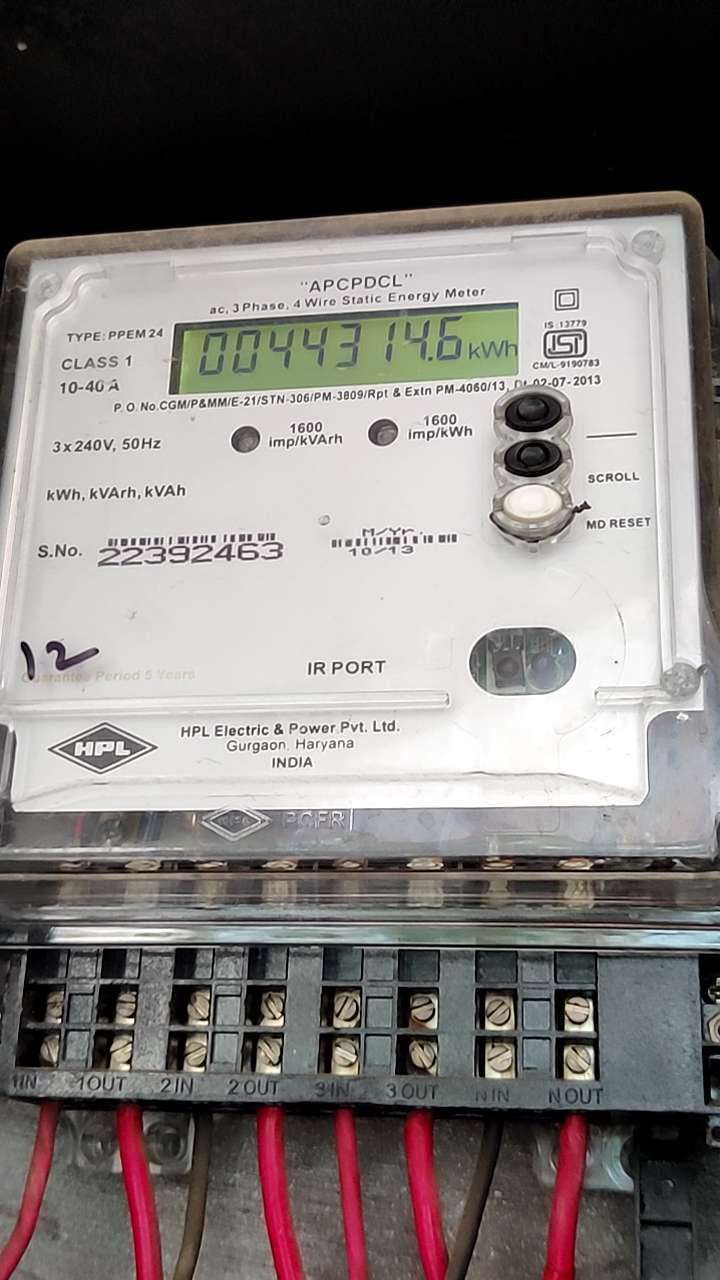meter_serial_number: (88, 539, 292, 573)
